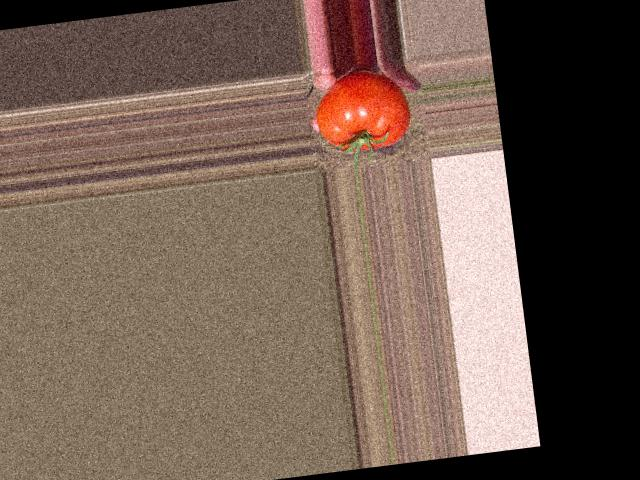tomato: (311, 65, 413, 156)
